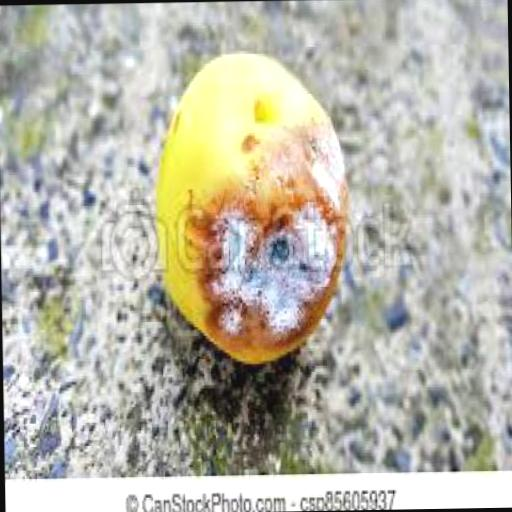biodegradable: (150, 46, 344, 358)
